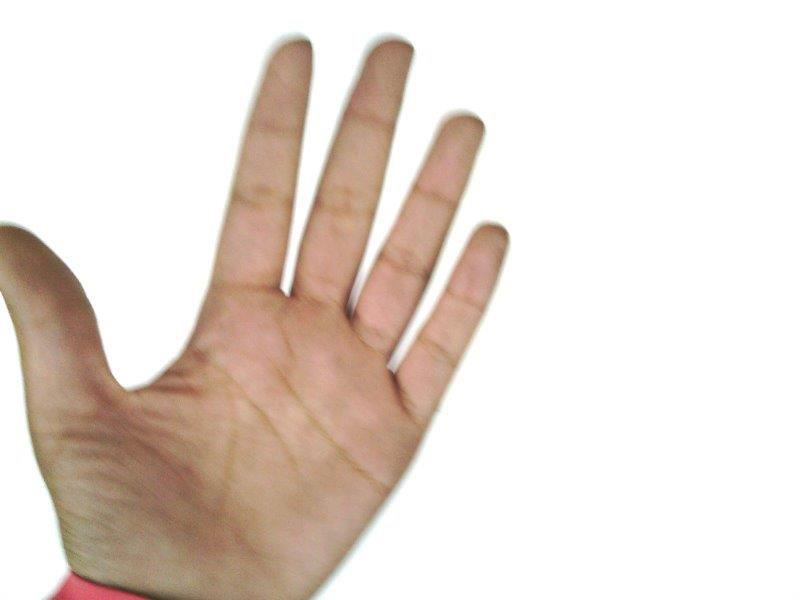hand: (1, 41, 509, 590)
